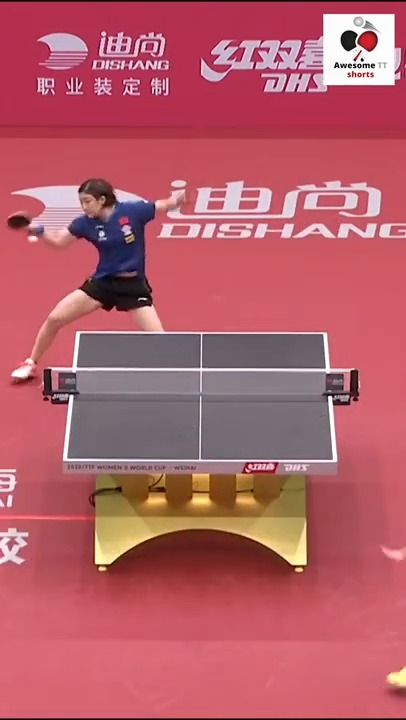Ball: (26, 234, 41, 246)
